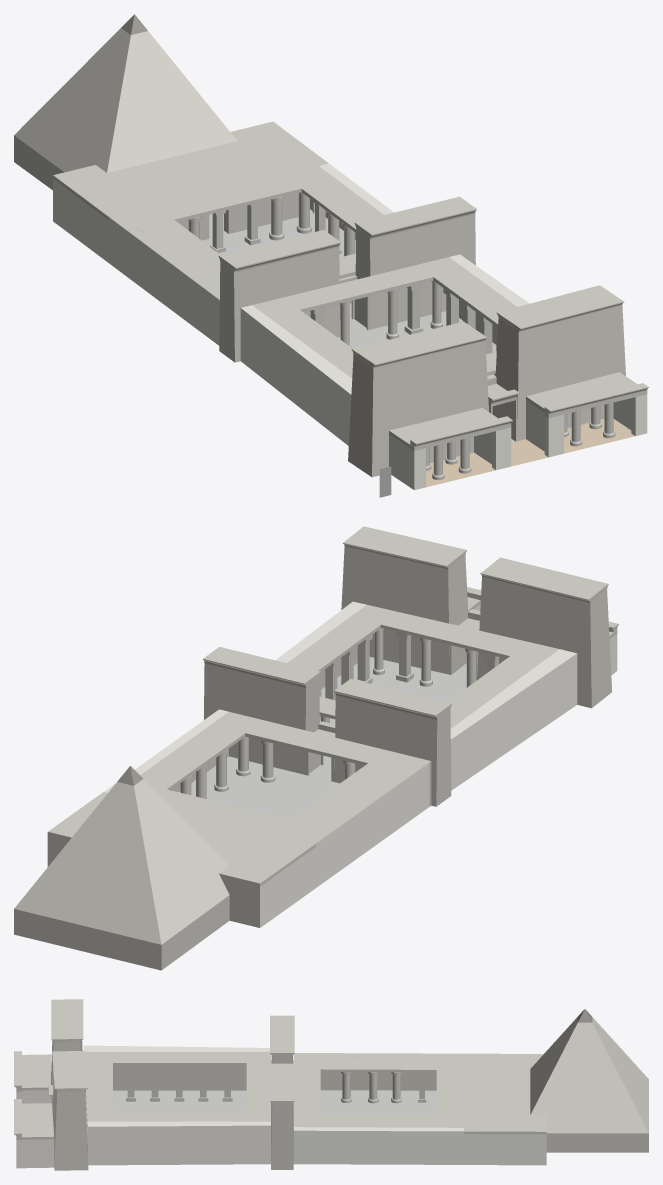
Rendered from Neferrenpet.glb.
3 renders of one model, top to bottom at view 1: azimuth 30°, elevation 25°; view 2: azimuth 150°, elevation 25°; view 3: azimuth 270°, elevation 25°, orthographic. The views are drawn at different scales.
Visible parts, largest first — view 1: Mesh65 Component_4_1 Model, Mesh10 Pyramid1 Model, Mesh64 Roof2_1 Model, Mesh63 Roof1_1 Model, Mesh67 Model, Mesh66 Model, Mesh68 Model, Mesh4 Pylon_Gate1 Model, Mesh71 Model, Mesh69 Model, Mesh62 Component_8_1 Model, Mesh59 Component_5_1 Model (+1 smaller); view 2: Mesh65 Component_4_1 Model, Mesh10 Pyramid1 Model, Mesh64 Roof2_1 Model, Mesh63 Roof1_1 Model, Mesh68 Model, Mesh70 Model, Mesh72 Model, Mesh61 Component_6_1 Model, Mesh60 Component_5_2 Model, Mesh4 Pylon_Gate1 Model, Mesh9 pylon2gate1 Model, Mesh37 Square_Column13 Model; view 3: Mesh65 Component_4_1 Model, Mesh10 Pyramid1 Model, Mesh64 Roof2_1 Model, Mesh63 Roof1_1 Model, Mesh67 Model, Mesh66 Model, Mesh68 Model, Mesh61 Component_6_1 Model, Mesh19 Square_Column1 Model, Mesh20 Square_Column2 Model, Mesh21 Square_Column3 Model, Mesh22 Square_Column4 Model (+11 smaller).
Part boxes in pixels (bbox=[...]): Mesh65 Component_4_1 Model: bbox=[53, 121, 647, 490]; Mesh10 Pyramid1 Model: bbox=[14, 14, 237, 190]; Mesh64 Roof2_1 Model: bbox=[119, 166, 383, 289]; Mesh63 Roof1_1 Model: bbox=[252, 257, 516, 378]; Mesh67 Model: bbox=[526, 372, 648, 418]; Mesh66 Model: bbox=[389, 408, 512, 450]; Mesh68 Model: bbox=[356, 325, 481, 365]; Mesh4 Pylon_Gate1 Model: bbox=[487, 374, 519, 441]; Mesh71 Model: bbox=[367, 206, 476, 239]; Mesh69 Model: bbox=[231, 239, 340, 272]; Mesh62 Component_8_1 Model: bbox=[370, 334, 487, 368]; Mesh59 Component_5_1 Model: bbox=[515, 298, 624, 331]; Mesh65 Component_4_1 Model: bbox=[47, 529, 617, 927]; Mesh10 Pyramid1 Model: bbox=[14, 766, 229, 970]; Mesh64 Roof2_1 Model: bbox=[140, 712, 420, 840]; Mesh63 Roof1_1 Model: bbox=[287, 605, 559, 728]; Mesh68 Model: bbox=[485, 561, 604, 600]; Mesh70 Model: bbox=[334, 687, 439, 720]; Mesh72 Model: bbox=[203, 655, 308, 688]; Mesh61 Component_6_1 Model: bbox=[480, 570, 592, 602]; Mesh60 Component_5_2 Model: bbox=[343, 539, 450, 569]; Mesh4 Pylon_Gate1 Model: bbox=[449, 609, 480, 679]; Mesh9 pylon2gate1 Model: bbox=[305, 721, 335, 781]; Mesh37 Square_Column13 Model: bbox=[396, 632, 413, 682]; Mesh65 Component_4_1 Model: bbox=[16, 1015, 546, 1170]; Mesh10 Pyramid1 Model: bbox=[530, 1009, 648, 1152]; Mesh64 Roof2_1 Model: bbox=[293, 1056, 463, 1127]; Mesh63 Roof1_1 Model: bbox=[85, 1052, 270, 1121]; Mesh67 Model: bbox=[14, 1099, 54, 1139]; Mesh66 Model: bbox=[14, 1051, 50, 1091]; Mesh68 Model: bbox=[58, 999, 76, 1042]; Mesh61 Component_6_1 Model: bbox=[76, 999, 83, 1042]; Mesh19 Square_Column1 Model: bbox=[126, 1065, 135, 1101]; Mesh20 Square_Column2 Model: bbox=[150, 1065, 159, 1101]; Mesh21 Square_Column3 Model: bbox=[174, 1065, 184, 1101]; Mesh22 Square_Column4 Model: bbox=[198, 1065, 208, 1101].
Size of the model in its own units: 16.1 by 9.11 by 44.65.
